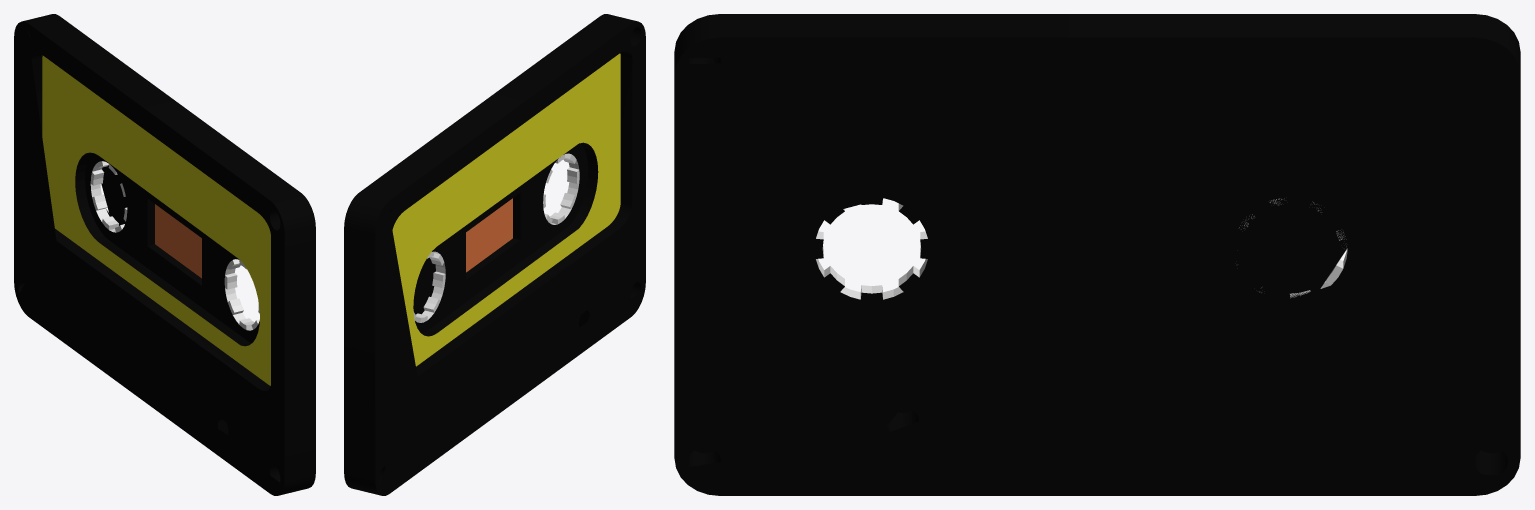
File: Cassette.fbx
3 views of the same model, side by side, from view 1: azimuth 30°, elevation 25°; view 2: azimuth 150°, elevation 25°; view 3: azimuth 270°, elevation 25° (orthographic). The views are drawn at different scales.
Visible parts, largest first — view 1: Cube.018; view 2: Cube.018; view 3: Cube.018.
Boxes of the visible parts, x1,y1,x2,y2 form: Cube.018: (14,14,315,495); Cube.018: (344,14,645,495); Cube.018: (674,14,1520,495).
Size of the model in its own units: 3.85 by 34.68 by 58.01.
